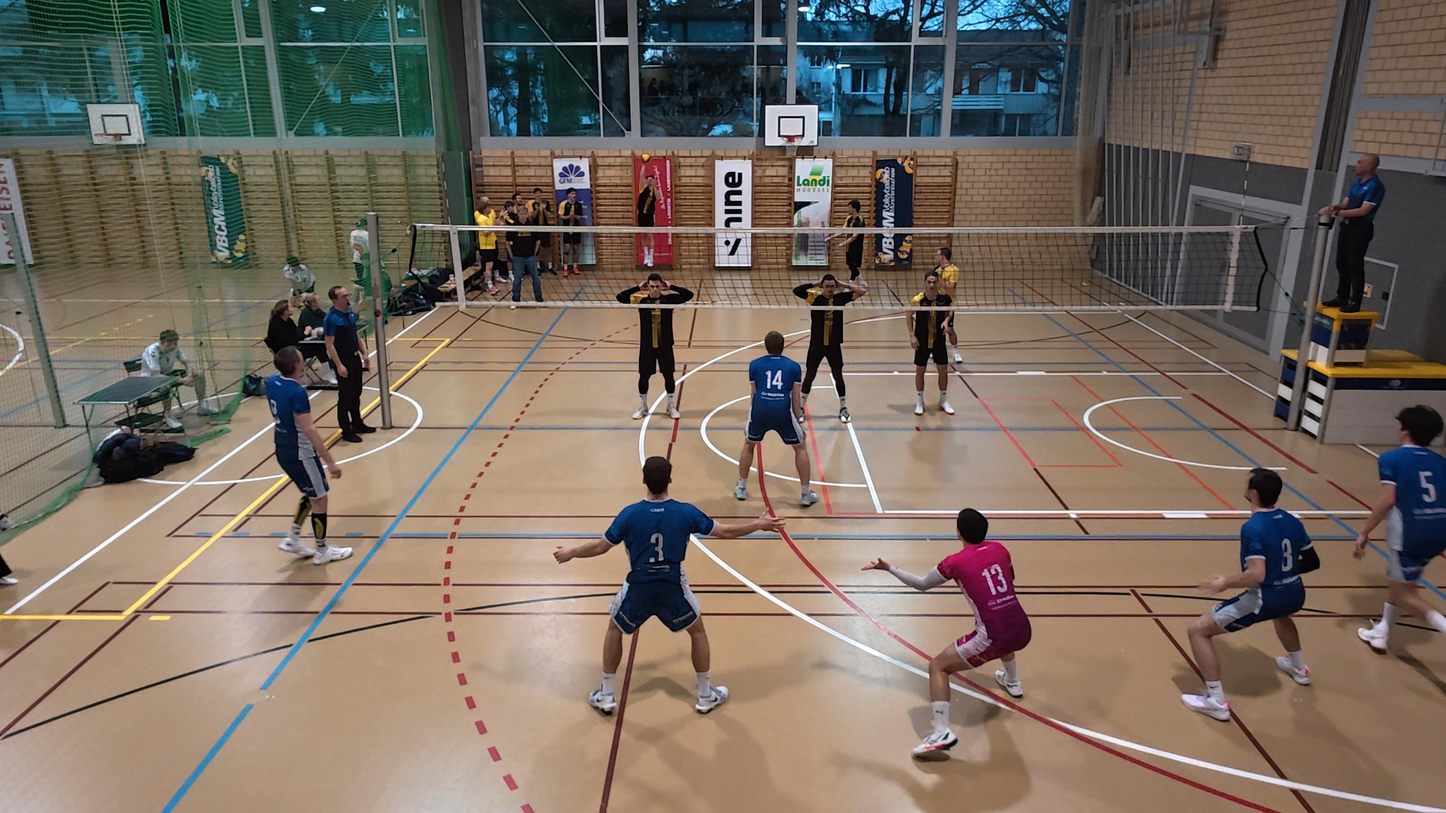battuta: (635, 150, 665, 271)
